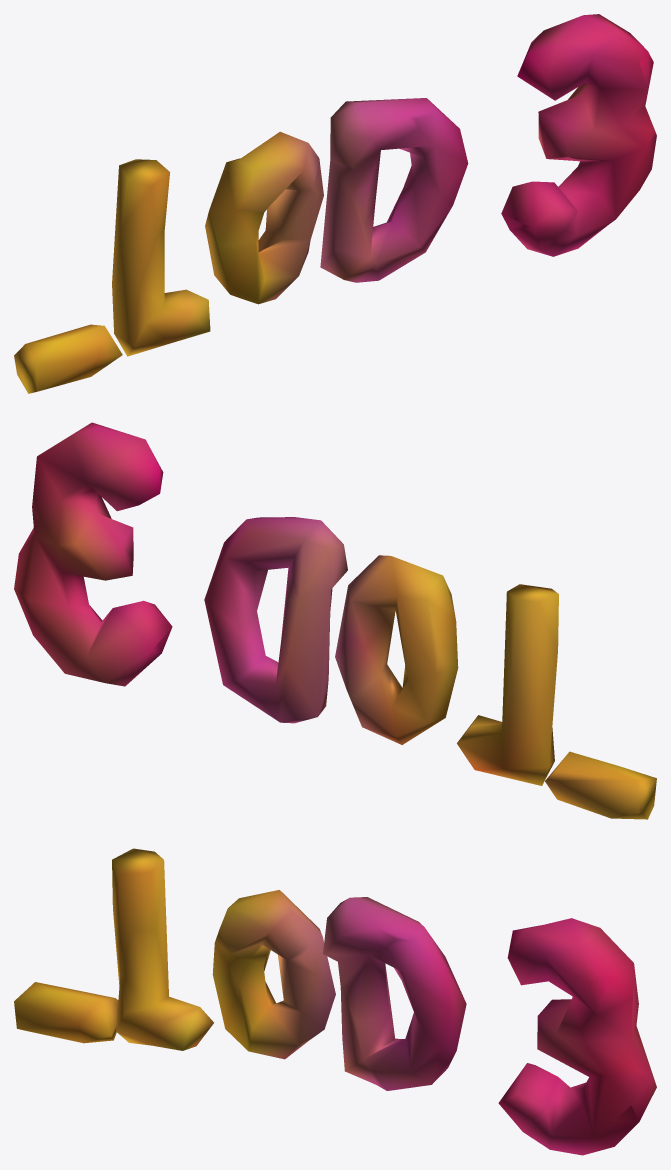
3 renders of one model, top to bottom at view 1: azimuth 30°, elevation 25°; view 2: azimuth 150°, elevation 25°; view 3: azimuth 330°, elevation 25°, orthographic.
Visible parts, largest first — view 1: _LOD3; view 2: _LOD3; view 3: _LOD3.
Boxes of the visible parts, left/top/right/bottom form: _LOD3: left=14, top=14, right=656, bottom=393; _LOD3: left=14, top=422, right=656, bottom=819; _LOD3: left=14, top=848, right=656, bottom=1155.
Size of the model in its own units: 5.15 by 0.6998 by 1.95.
